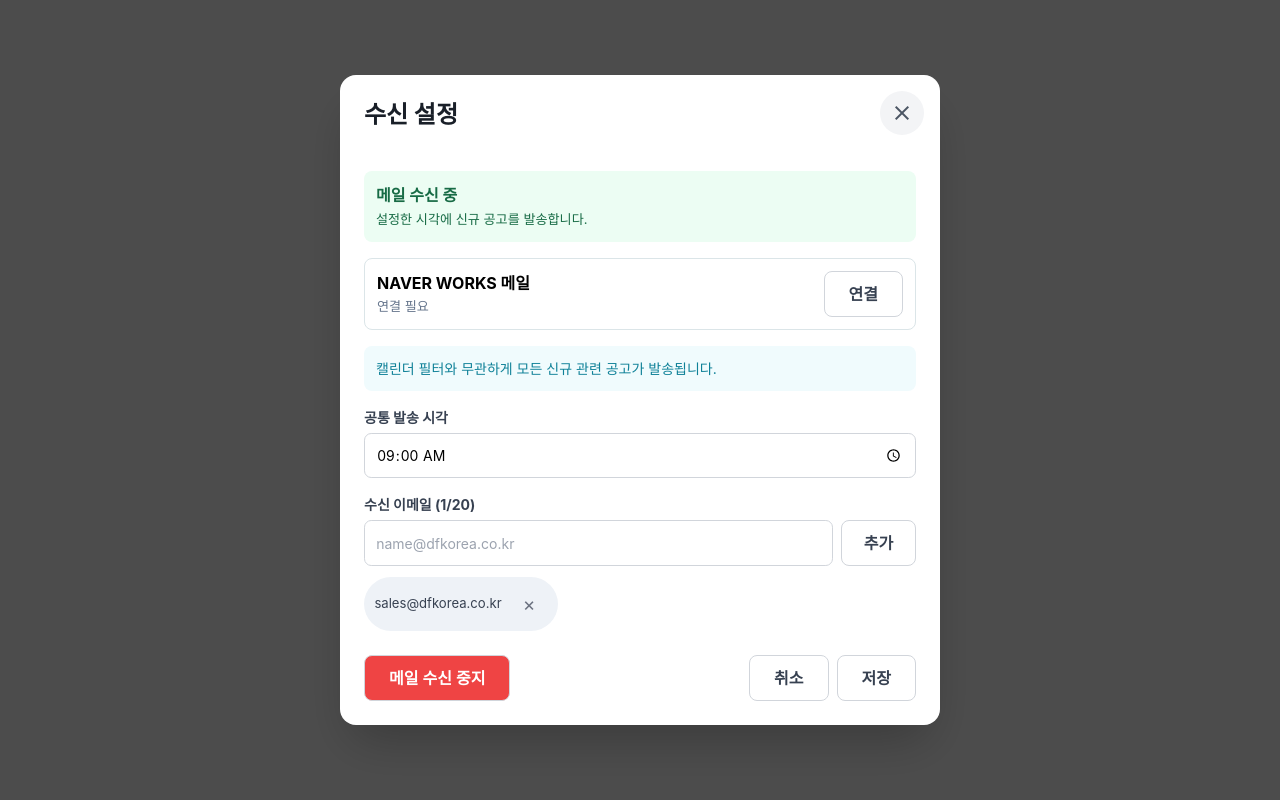
Scenario: TenderSubscriptionModal › rejects duplicate and invalid email addresses without adding them
The width and height of the screenshot is (1280, 800).
Type "sales@dfkorea.co.kr" into the field with test id "recipient-email" at (599, 543), box [364,520,833,566]
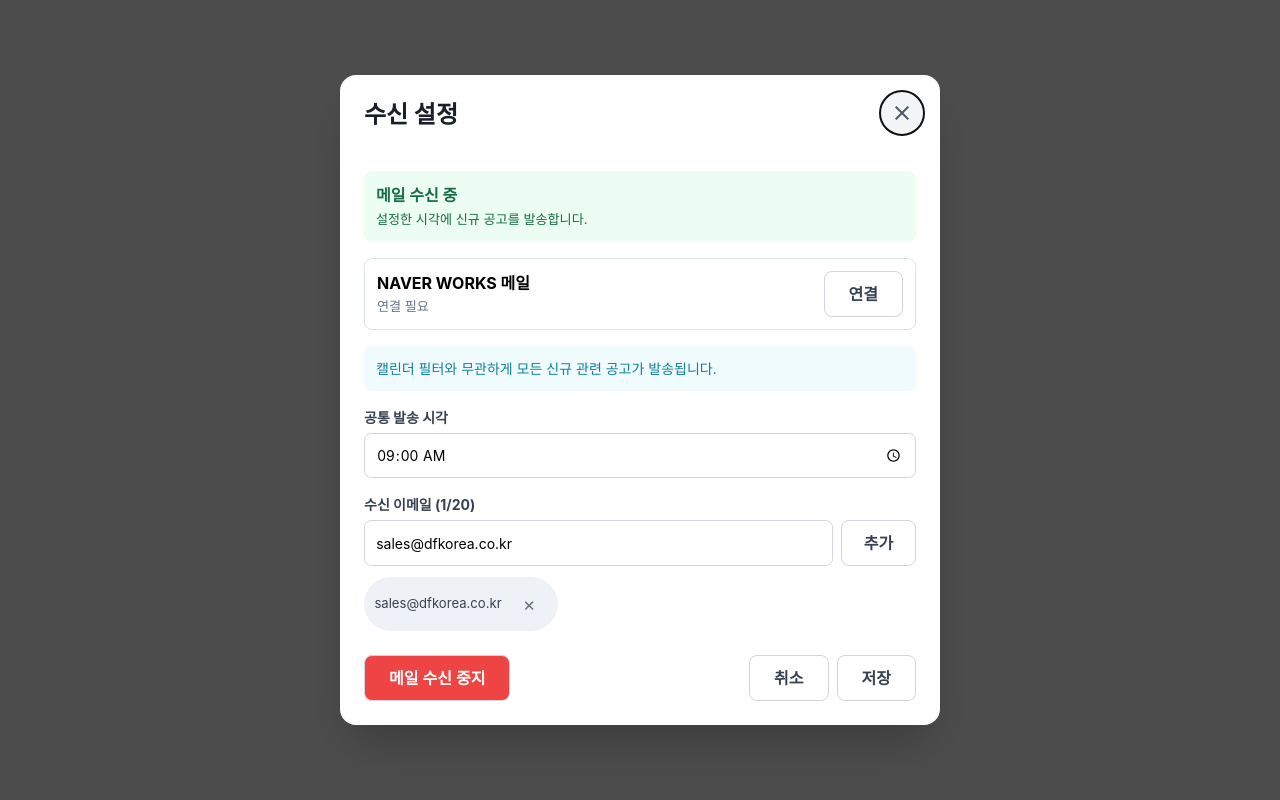
Click the button with test id "add-recipient" at (879, 543), box [841,520,916,566]
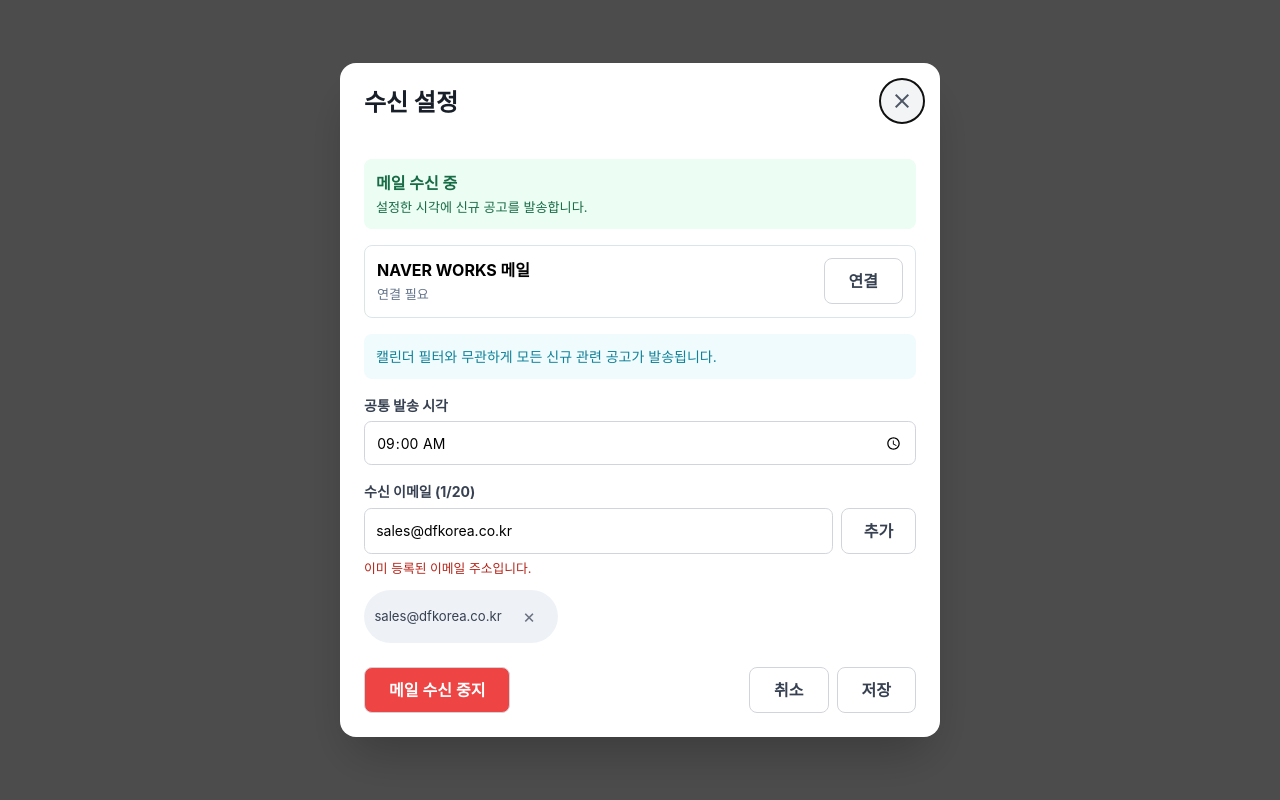
Expected: the text with test id "recipient-error" shows "이미 등록된 이메일", [364,562,532,576]
Replace the text in the field with test id "recipient-email" with "not-an-email" at (599, 531), box [364,508,833,554]
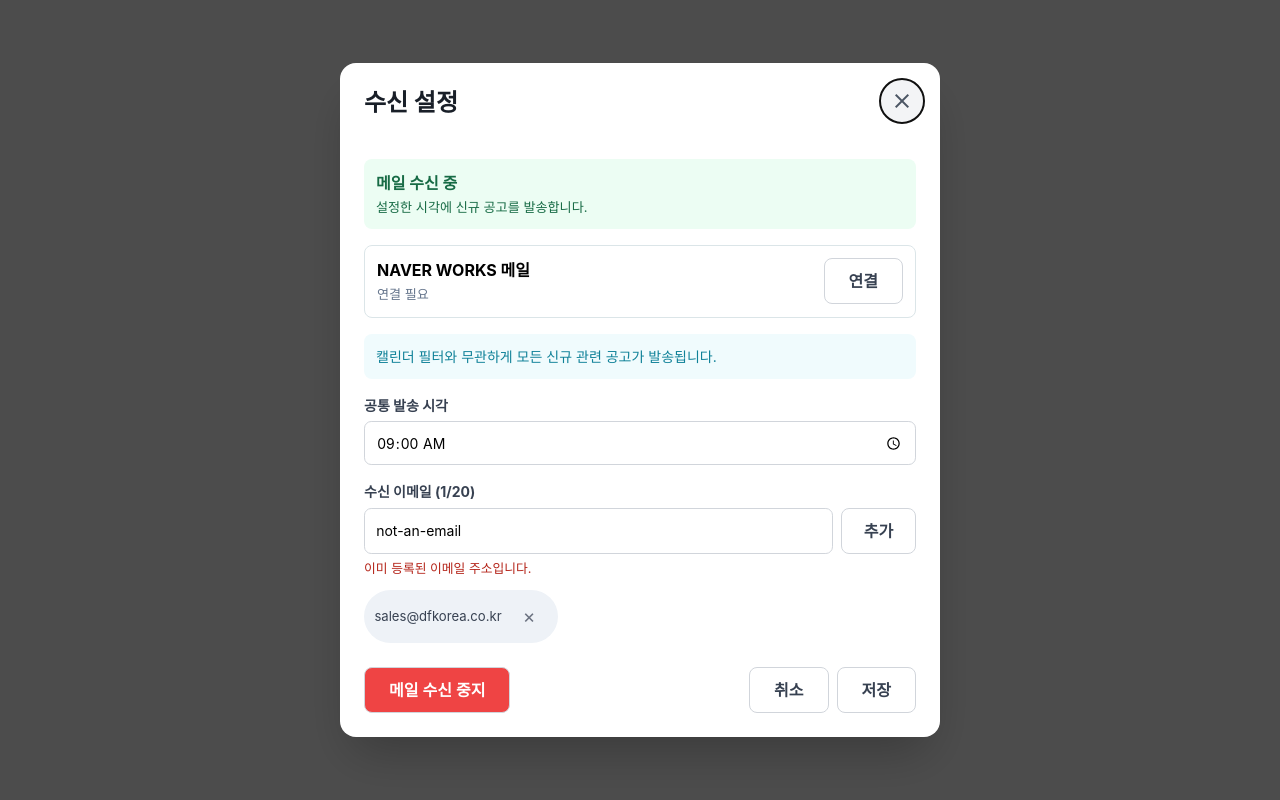
Click the button with test id "add-recipient" at (879, 531), box [841,508,916,554]
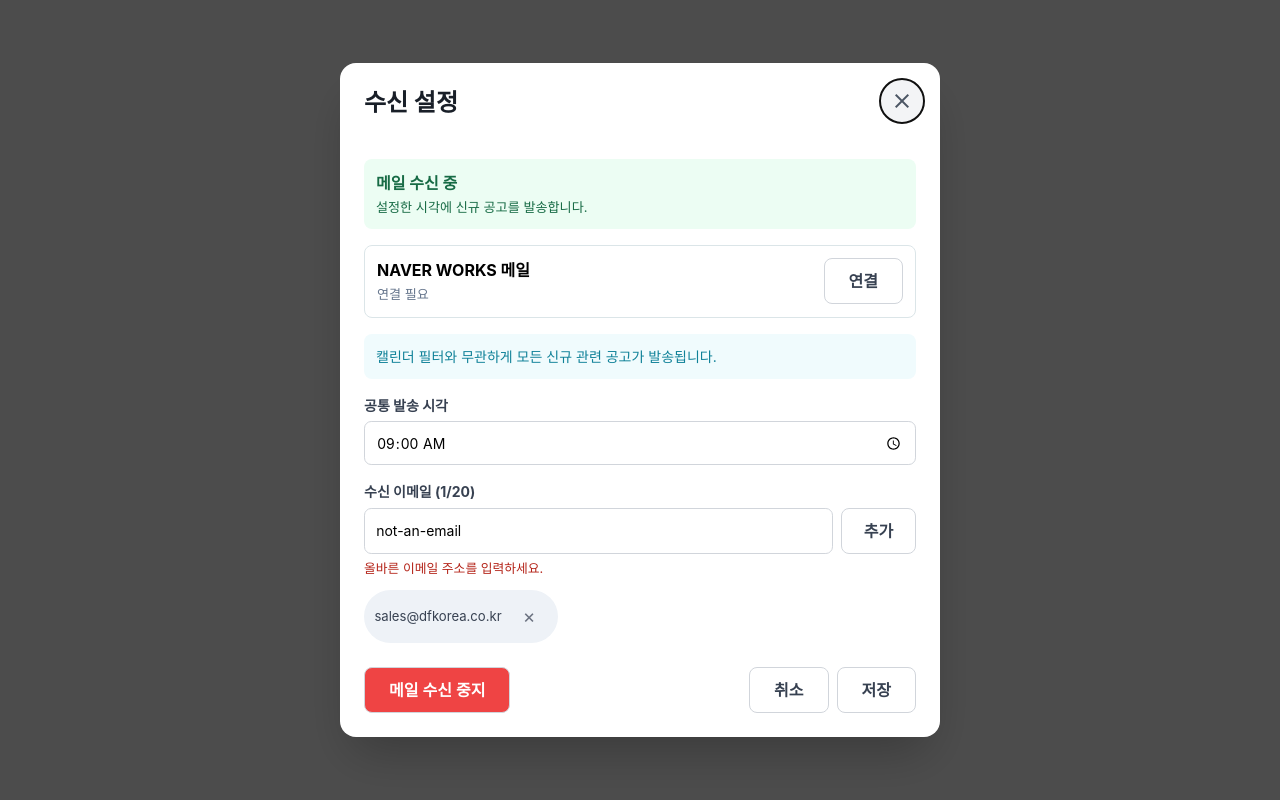
Expected: the number of list items with test id "recipient-chip" is 1, [364,590,558,643]
Expected: the text with test id "recipient-error" shows "올바른 이메일", [364,562,543,576]
